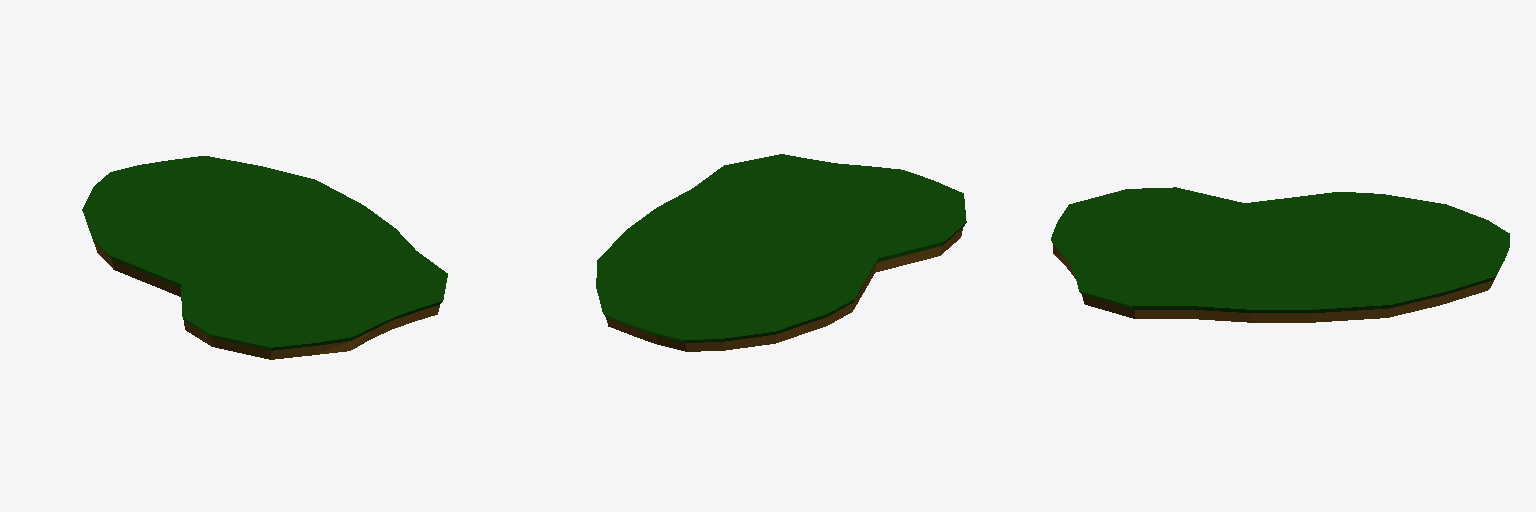
The model's file is island.obj.
The picture shows the model from 3 angles: view 1: azimuth 30°, elevation 25°; view 2: azimuth 150°, elevation 25°; view 3: azimuth 270°, elevation 25°; orthographic projection.
Parts seen in each view (by area): view 1: Plane; view 2: Plane; view 3: Plane.
Boxes of the visible parts, x1=… form: Plane: x1=82, y1=156, x2=447, y2=359; Plane: x1=596, y1=154, x2=966, y2=351; Plane: x1=1051, y1=187, x2=1509, y2=322.
Bounding box in the file's own units: 17.6 × 0.9928 × 27.89.